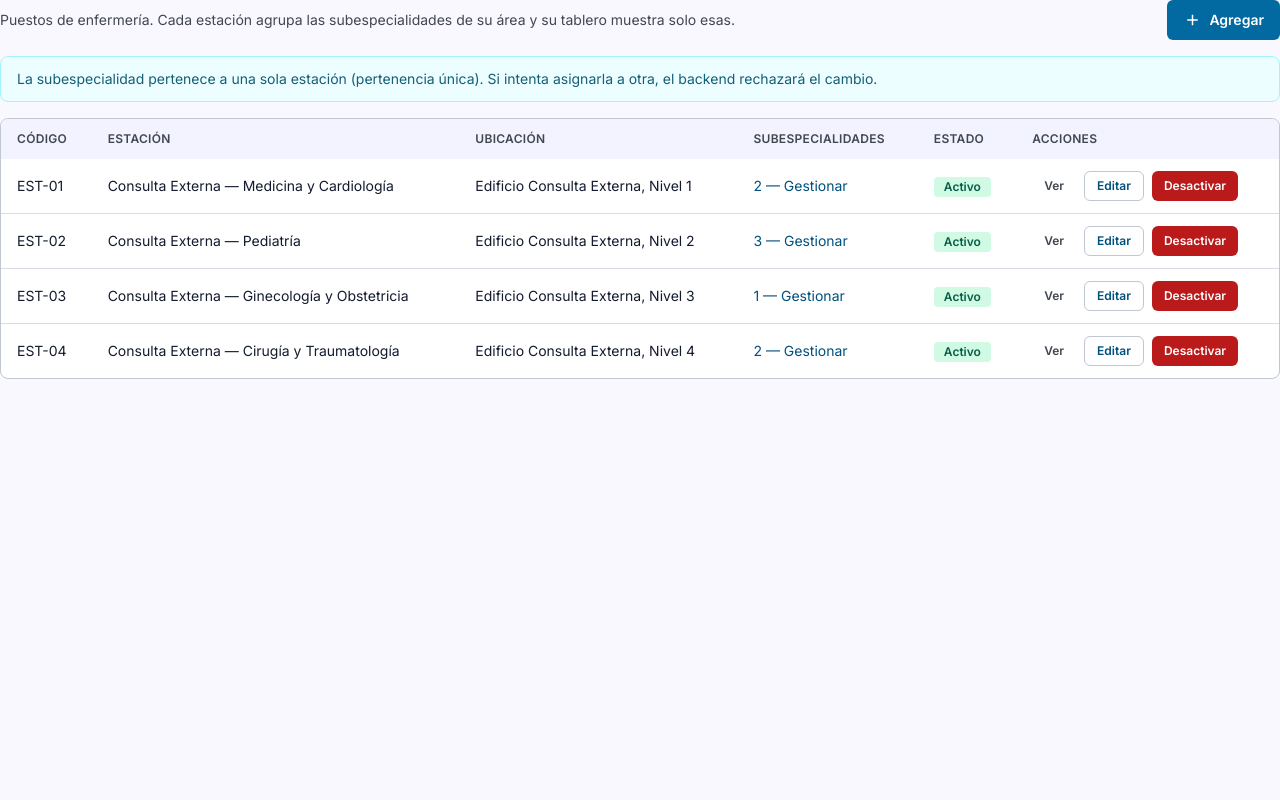
Test case: EstacionesTab › abre el modal de subespecialidades y guarda la asignación
Click the button "2 — Gestionar" in the row of "EST-01".
click(800, 186)  # box [753,176,848,196]
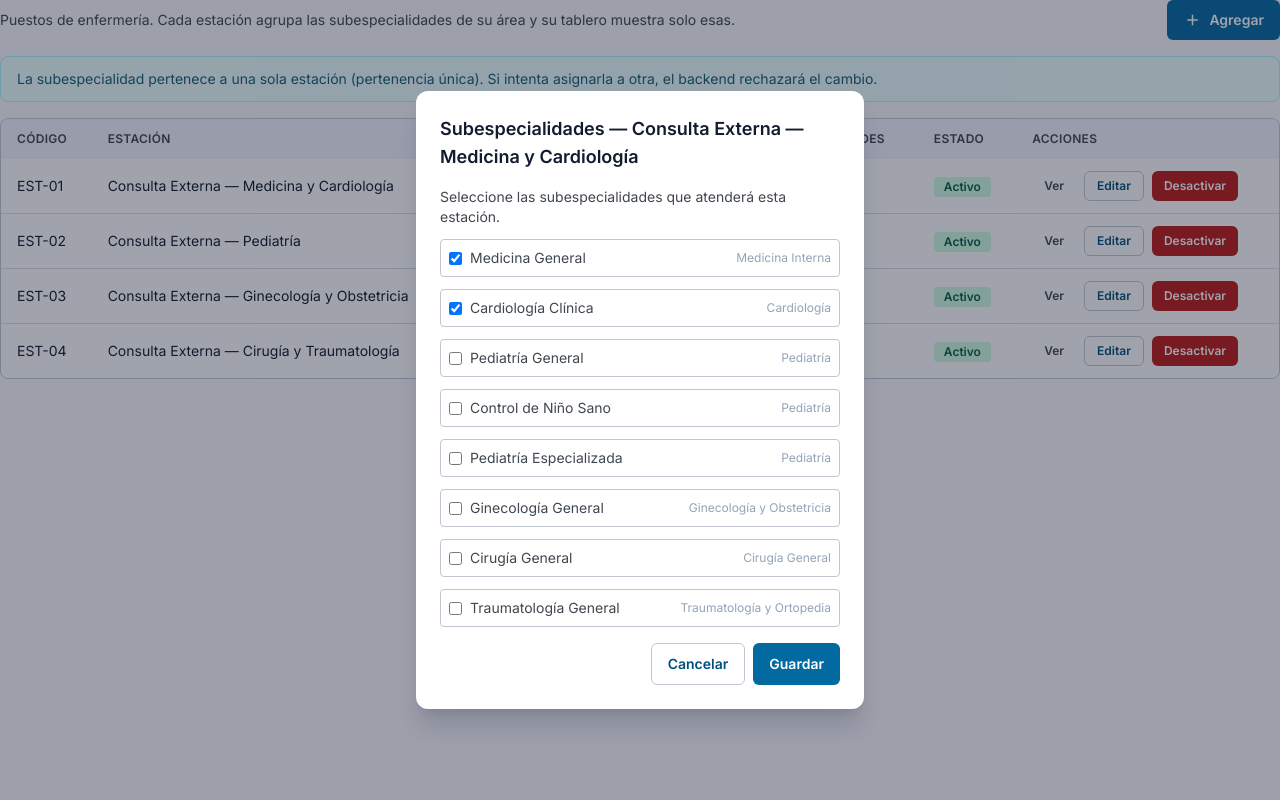
Check: the heading "Subespecialidades —" is shown, box [440,118,804,167]
Click the button "Guardar".
click(797, 664)  # box [753,643,840,685]
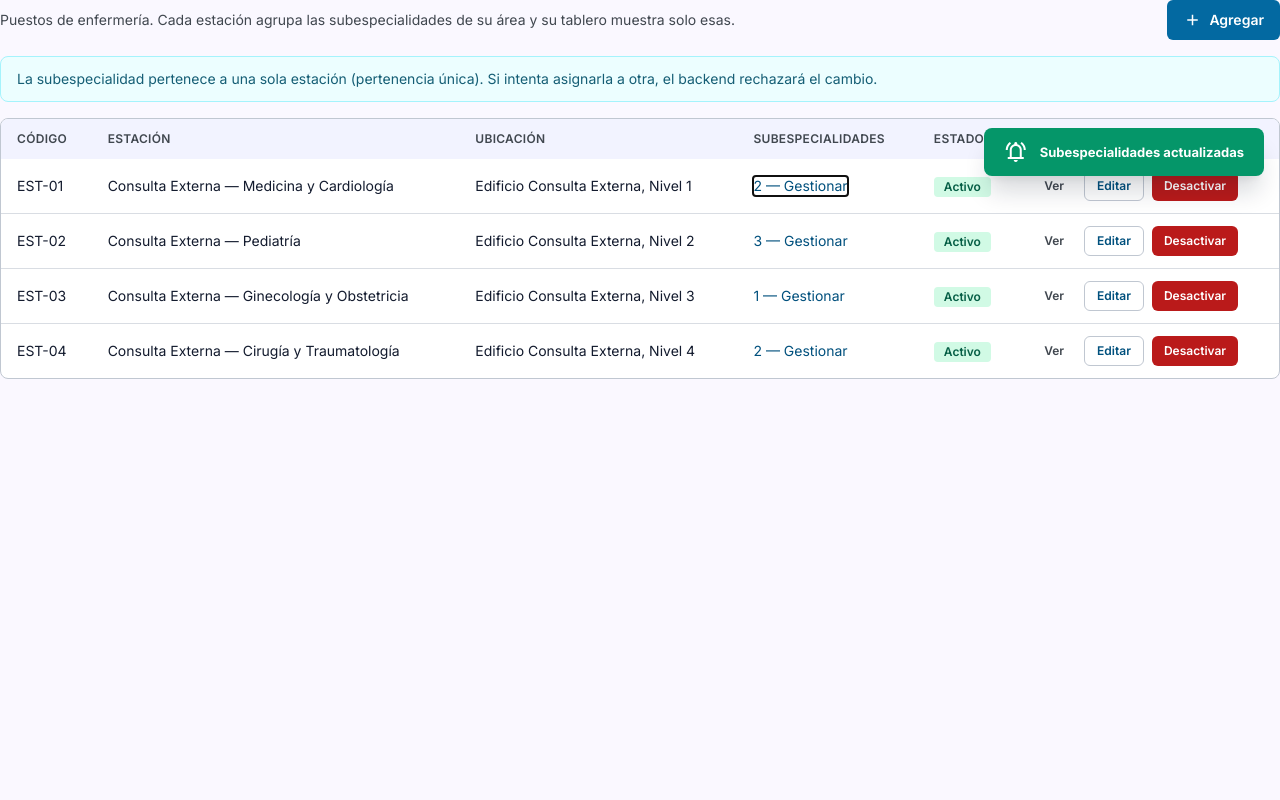
Check: the text "Subespecialidades actualizadas" is shown, box [1040,143,1244,161]
